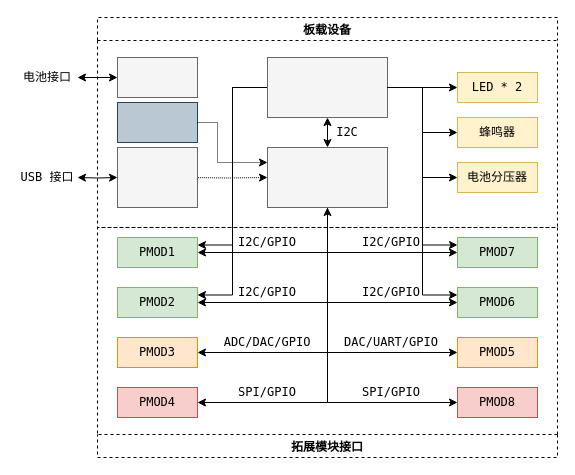
This 575x475 diagram has some shape labels left out. Each missing label, with the centre of its shape:
AW9523 IO 拓展芯片 8 路 IO 地址 0x58: the point at 327,87
CP2102 USB 转串口: the point at 157,177
ESP32-WROOM-D 单片机模块: the point at 327,177
TP4056 电池充电芯片: the point at 157,77
复位/下载 按键: the point at 157,122
